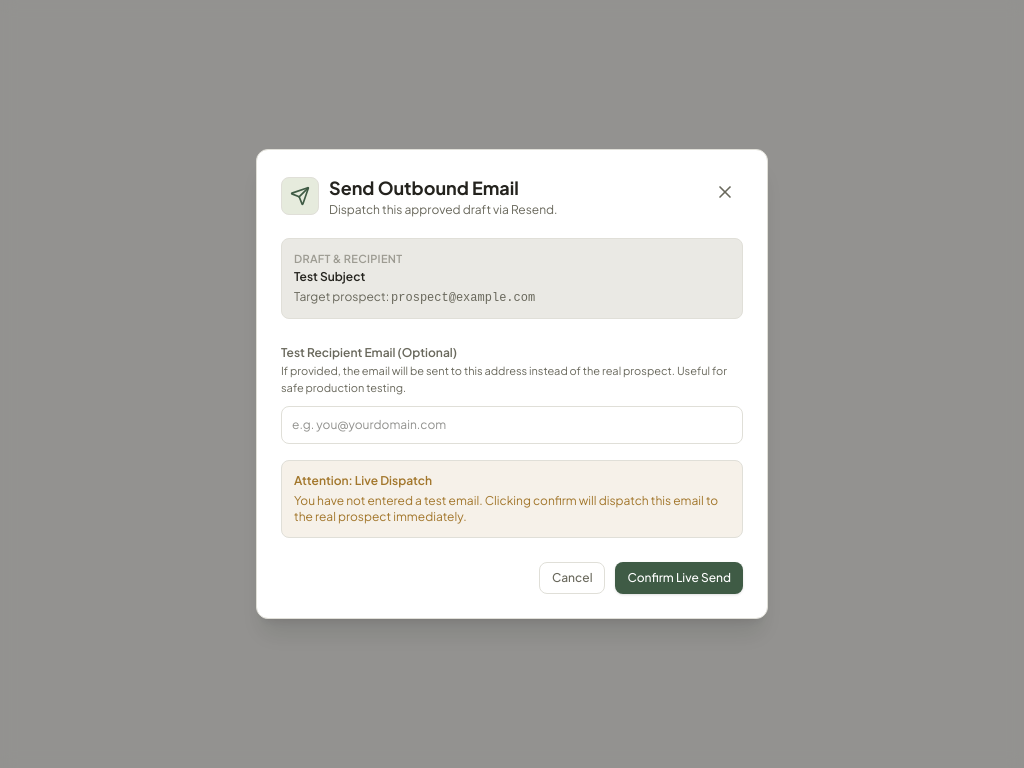
Test: DeliveryActionModal › displays error message if submission fails
The width and height of the screenshot is (1024, 768).
Click the button "Confirm Live Send": (679, 578) [616,562,743,594]
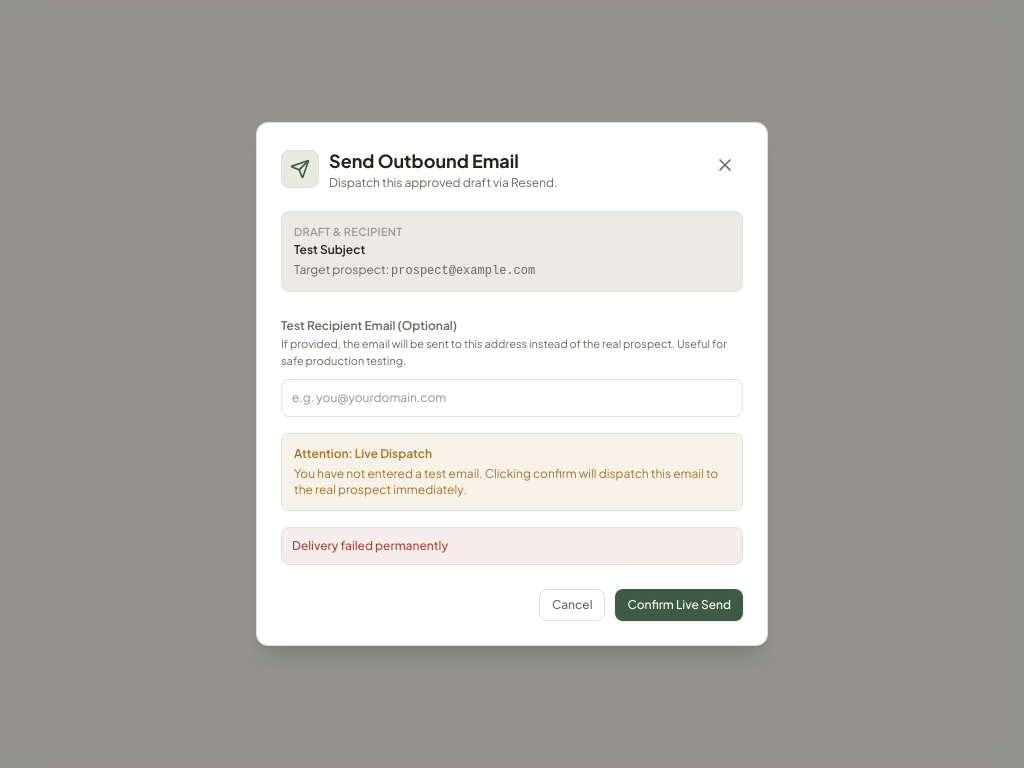
expect the button "Confirm Live Send" is enabled: met, box [616,589,743,621]
expect the text "Delivery failed permanently" is shown: met, box [281,527,743,565]
